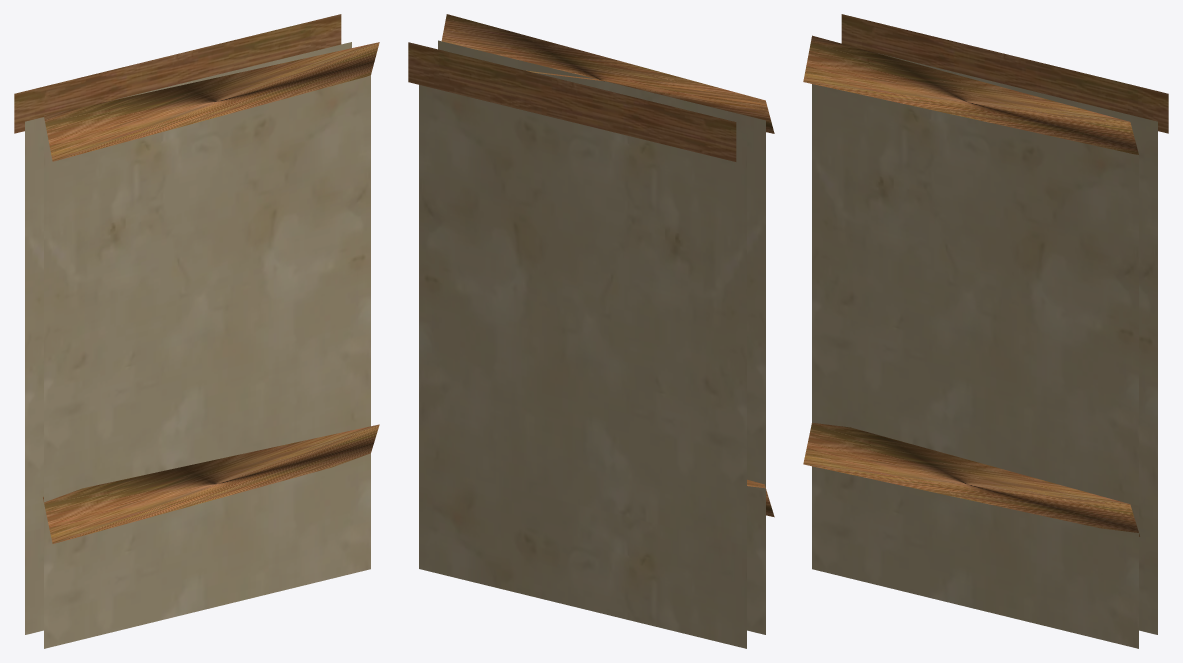
The model's file is Wall_Plaster_Straight.low.gltf.
The picture shows the model from 3 angles, left to right: view 1: azimuth 30°, elevation 25°; view 2: azimuth 150°, elevation 25°; view 3: azimuth 330°, elevation 25°; orthographic projection.
Parts seen in each view (by area): view 1: Wall_Plaster_Straight; view 2: Wall_Plaster_Straight; view 3: Wall_Plaster_Straight.
Part boxes in pixels (left/top/right/bottom): Wall_Plaster_Straight: left=14, top=14, right=379, bottom=648; Wall_Plaster_Straight: left=408, top=14, right=774, bottom=648; Wall_Plaster_Straight: left=803, top=14, right=1168, bottom=648.
Size of the model in its own units: 2 by 3.12 by 0.4063.
2 materials, 2 textured.
